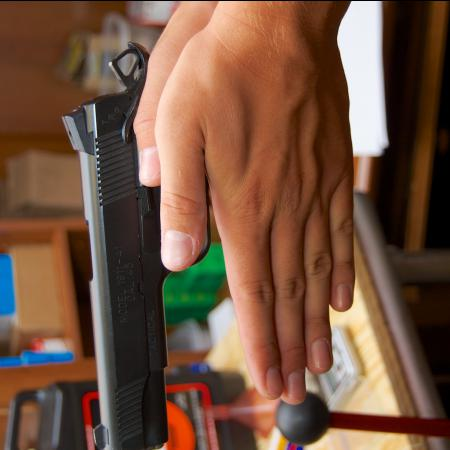Pistol: (59, 38, 228, 448)
